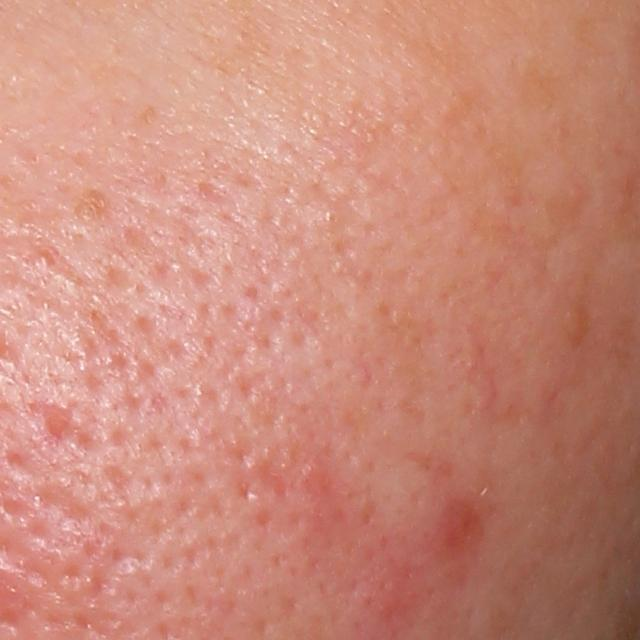atrophic_scar: (36, 405, 102, 467)
